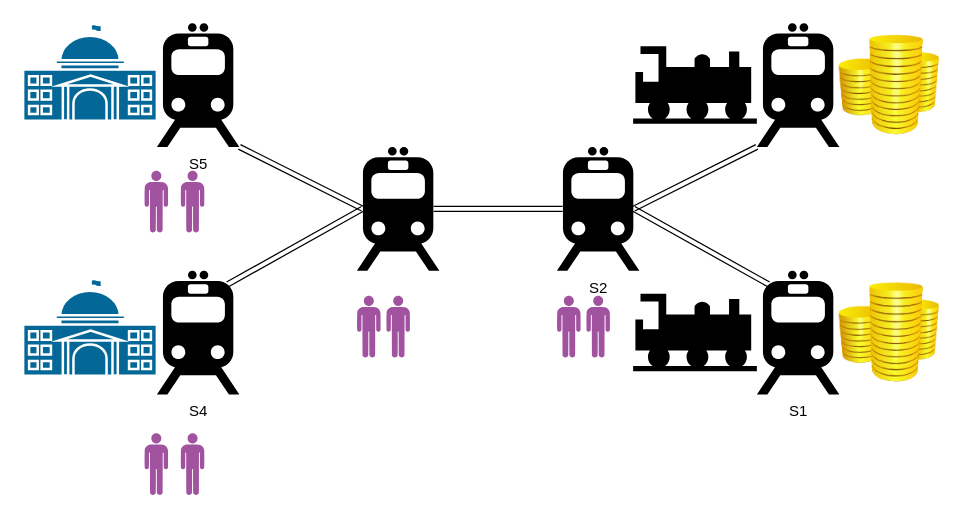
This 960x518 diagram has some shape labels left out. Each missing label, with the box of its shape:
S0: (756, 22, 839, 146)
S3: (356, 146, 439, 270)
